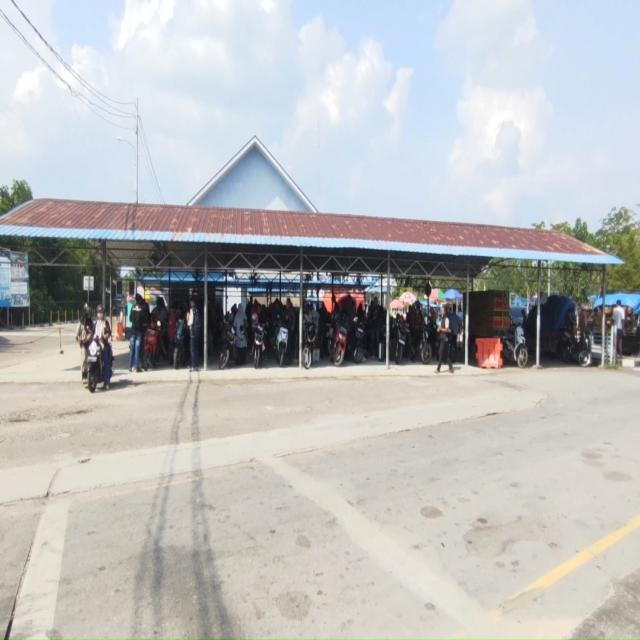Golongan II: (556, 331, 591, 366), (142, 319, 166, 370), (503, 325, 528, 369), (328, 314, 348, 366), (87, 336, 103, 393), (219, 321, 236, 370), (348, 316, 365, 364), (274, 316, 289, 368), (172, 318, 187, 370), (394, 314, 409, 365), (418, 323, 436, 364), (252, 316, 265, 369), (302, 321, 316, 369), (572, 332, 591, 367)
